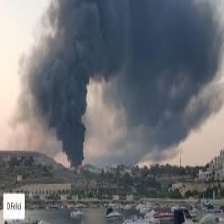smoke: (18, 1, 217, 166)
